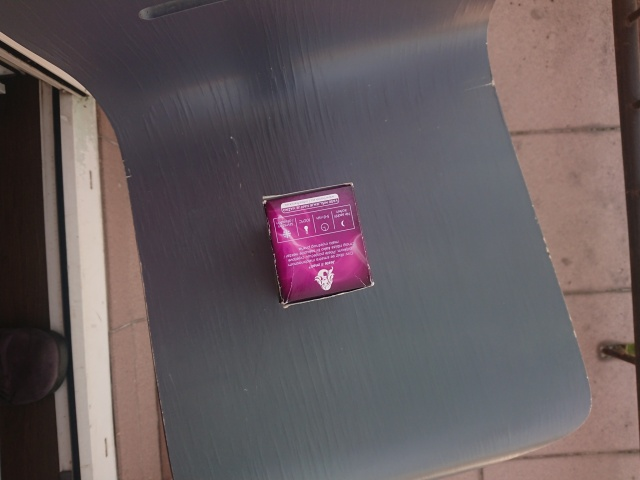Franck Black Currant Tea 60g: (260, 180, 377, 311)
